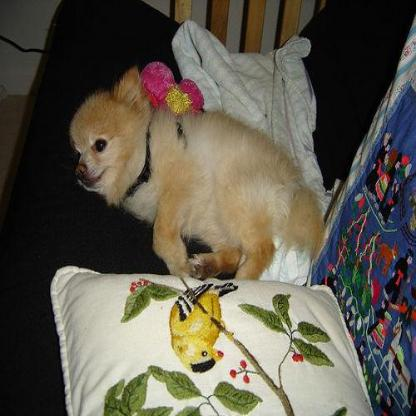Pomeranian: (66, 61, 328, 288)
